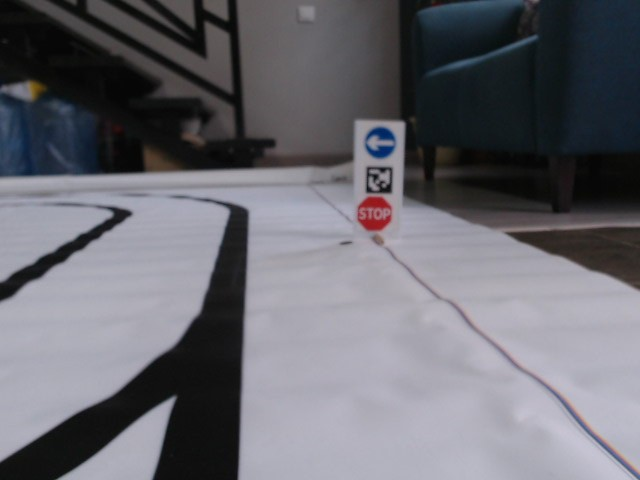Stop: (355, 195, 394, 232)
